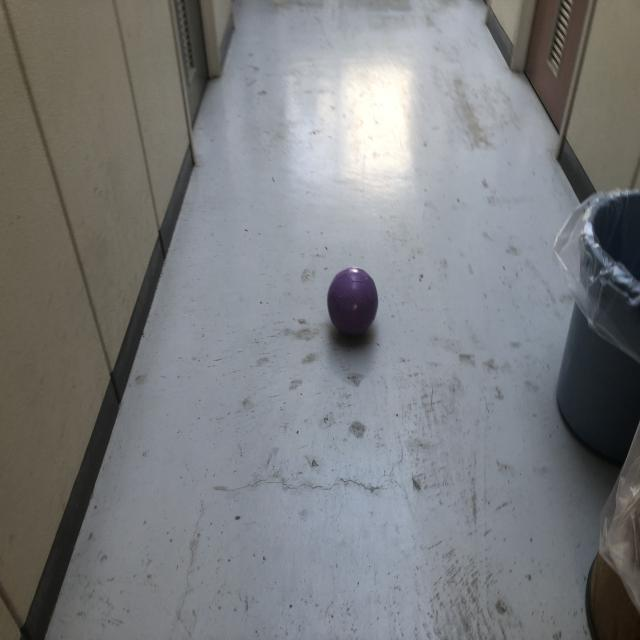purple_ball: (327, 267, 377, 337)
